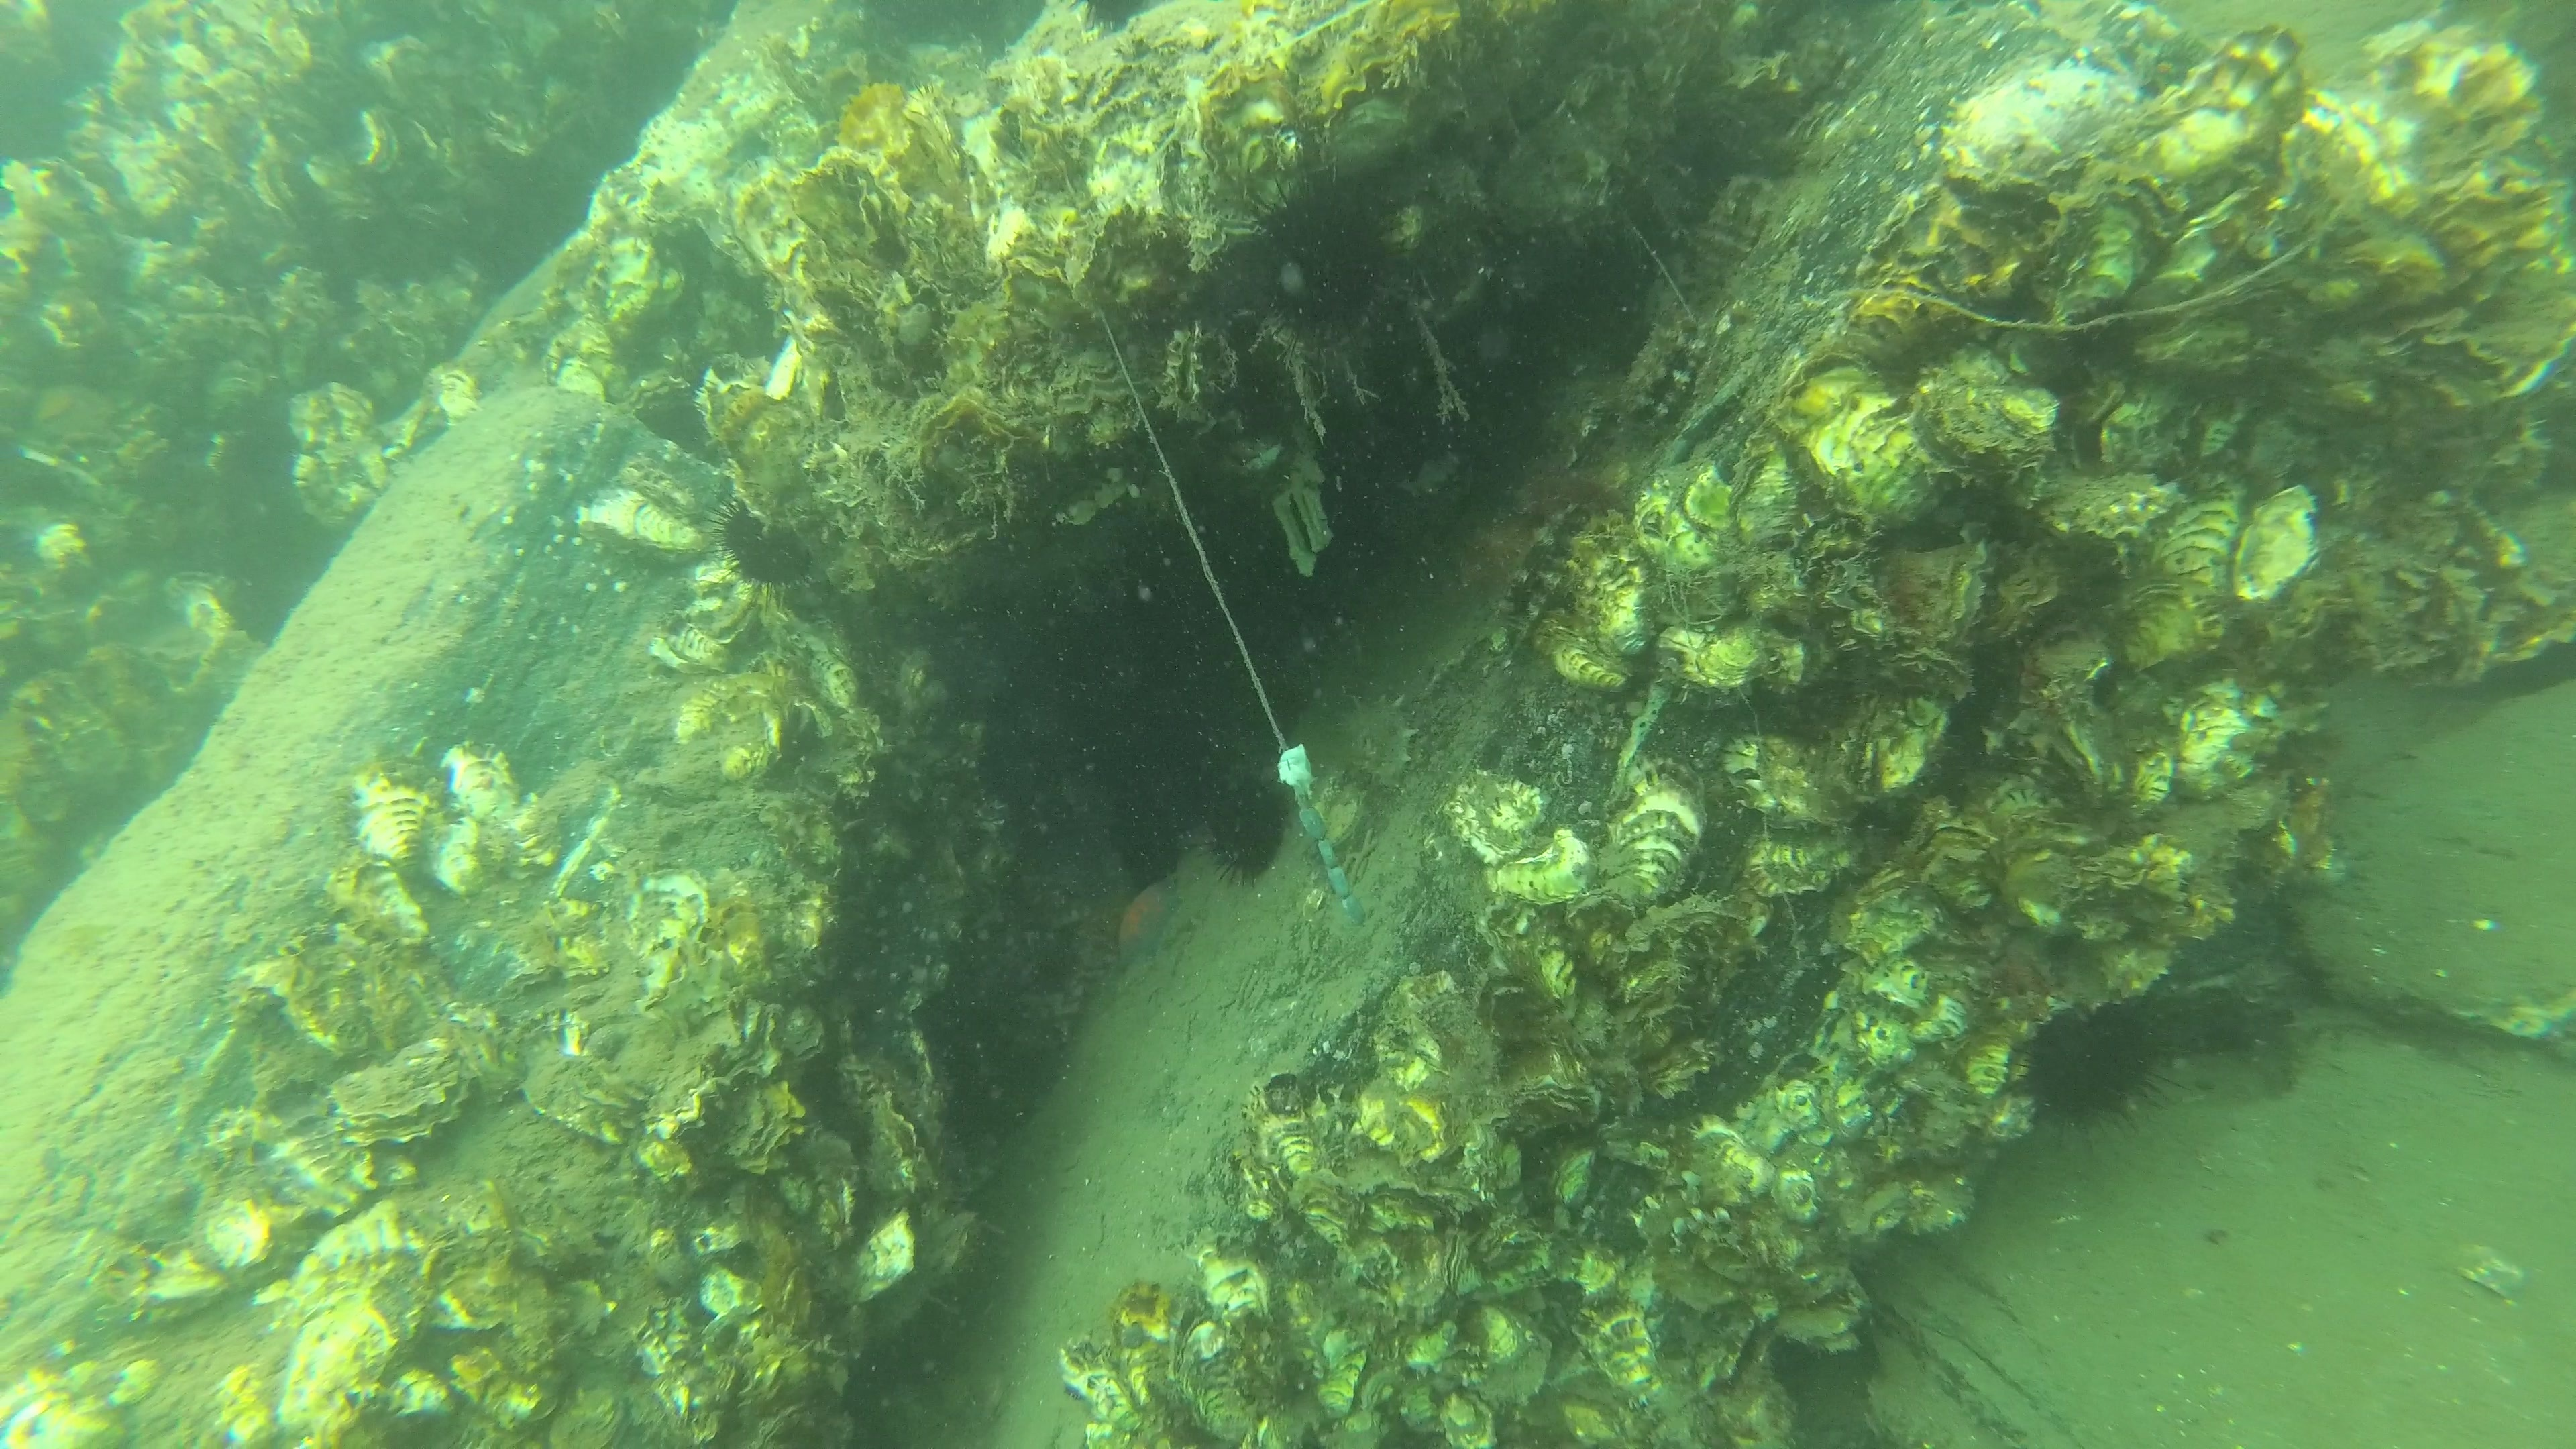echinus: (2038, 1024, 2164, 1136), (1196, 773, 1292, 893), (711, 499, 821, 594)
starfish: (1111, 870, 1192, 978)
